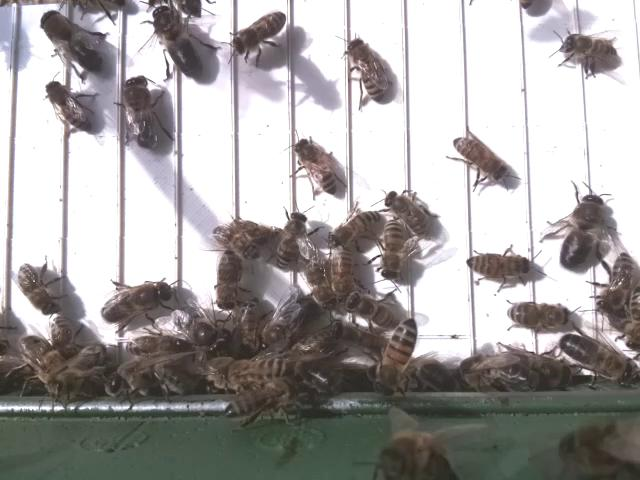Drone: (556, 331, 639, 383), (150, 3, 205, 81), (40, 8, 104, 74), (558, 191, 607, 272), (98, 277, 174, 326), (122, 73, 160, 152)
Worker: (373, 315, 421, 394), (452, 134, 511, 188), (226, 10, 289, 59), (346, 33, 388, 106), (292, 136, 338, 197), (43, 79, 93, 135), (14, 259, 59, 321), (596, 252, 636, 318), (464, 247, 534, 284), (383, 187, 432, 236), (323, 207, 380, 249), (275, 206, 309, 273), (505, 297, 572, 328), (213, 250, 245, 311), (380, 219, 410, 281)
